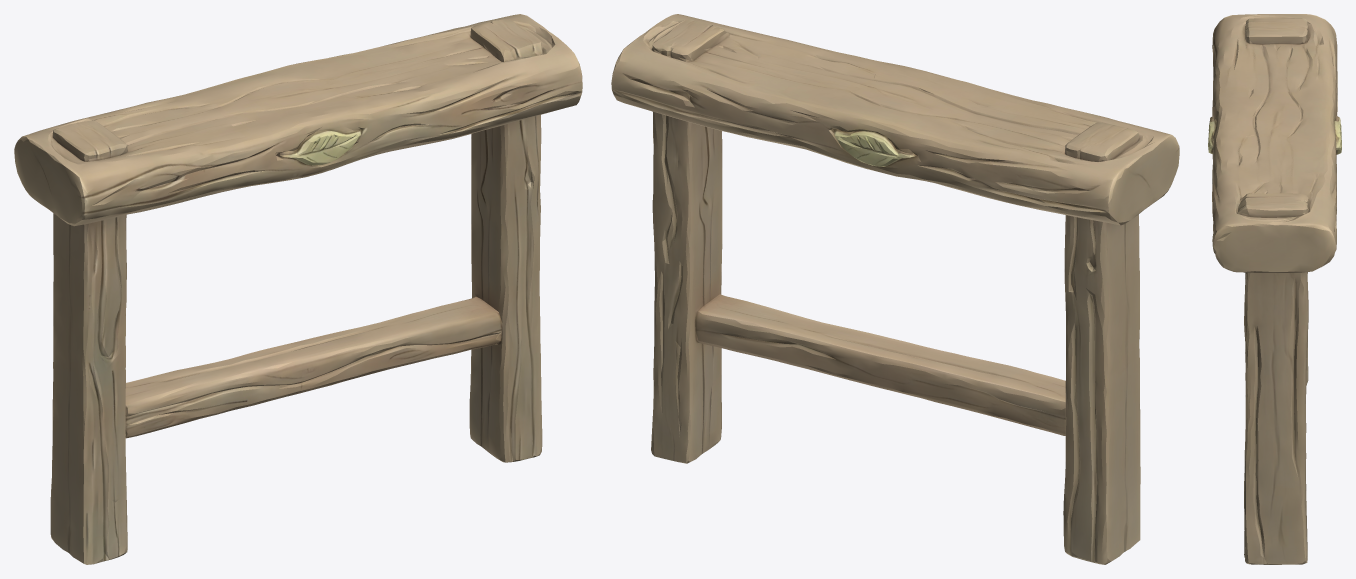
The picture shows the model from 3 angles, left to right: view 1: azimuth 30°, elevation 25°; view 2: azimuth 150°, elevation 25°; view 3: azimuth 270°, elevation 25°; orthographic projection. The views are drawn at different scales.
Parts seen in each view (by area): view 1: Mesh; view 2: Mesh; view 3: Mesh.
Part boxes in pixels (left/top/right/bottom): Mesh: left=14, top=14, right=582, bottom=564; Mesh: left=611, top=14, right=1179, bottom=564; Mesh: left=1208, top=14, right=1341, bottom=564.
Bounding box in the file's own units: 1.9 × 1.5 × 0.5082.
Materials: 1 (1 with a texture image).
